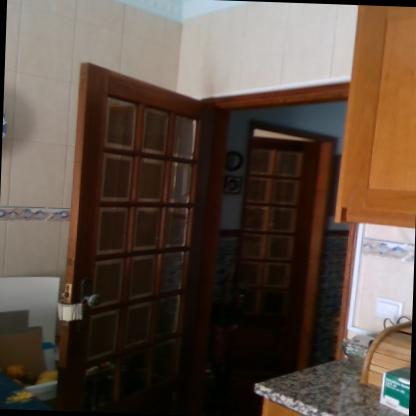open: (47, 55, 384, 415)
